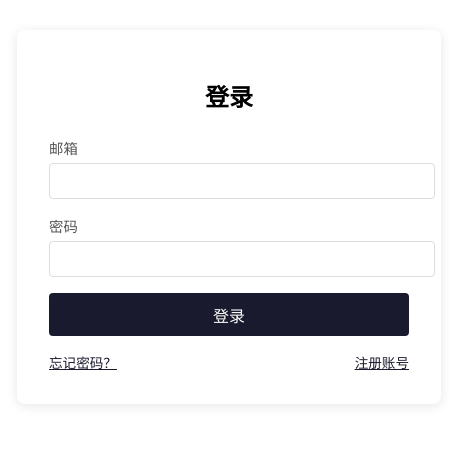
Test case: LoginView › shows error on failed login
Type "bad@example.com" into the field labelled "邮箱" at (242, 181), box [49,163,435,199]
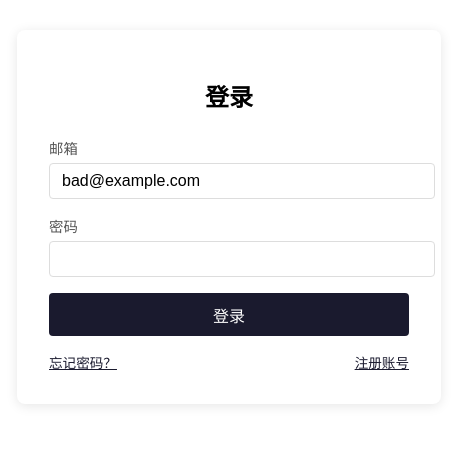
Type "wrong" into the password field labelled "密码" at (242, 259), box [49,241,435,277]
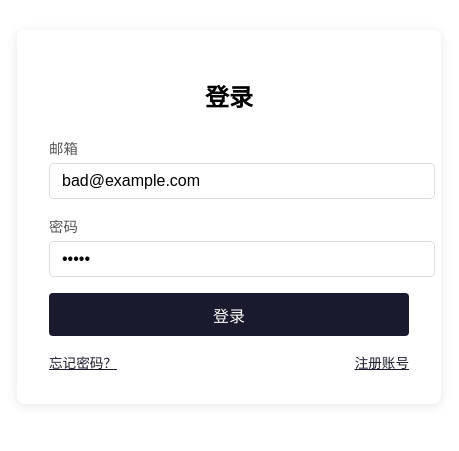
Submit the form
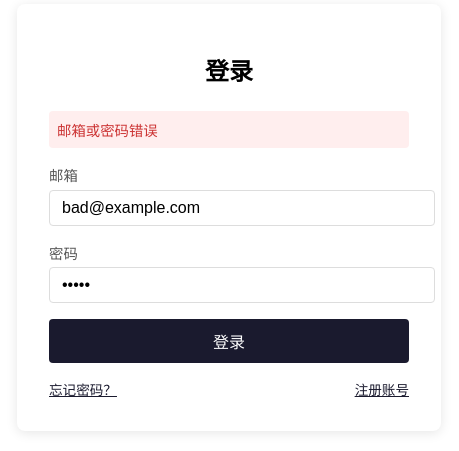
expect the text with class "error" reads "邮箱或密码错误": met, box [57,123,158,139]
